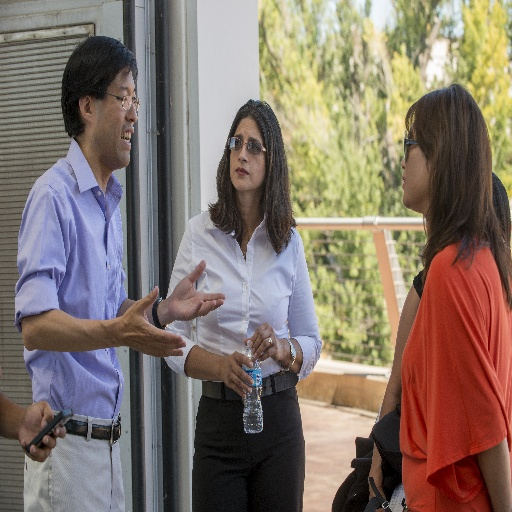hand: (94, 287, 173, 365), (168, 255, 226, 321), (17, 400, 65, 463), (222, 349, 256, 402), (244, 320, 282, 360), (368, 468, 388, 511)
